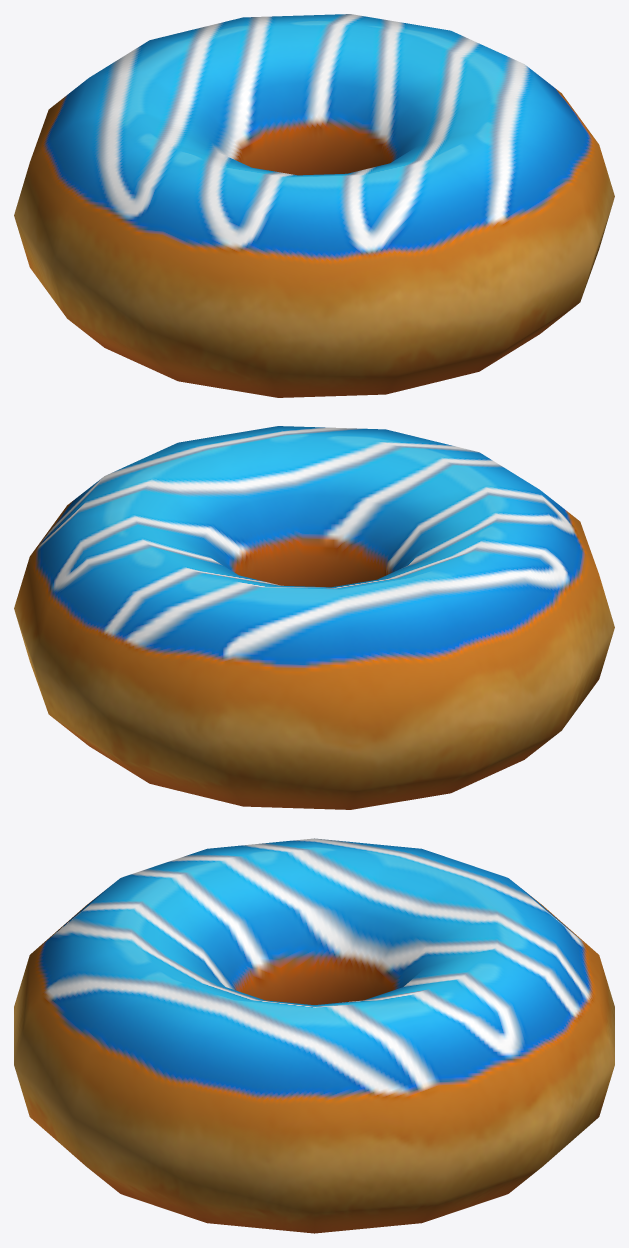
The model's file is 007-Donut_08.FBX.
3 views of the same model, one above another, from view 1: azimuth 30°, elevation 25°; view 2: azimuth 150°, elevation 25°; view 3: azimuth 270°, elevation 25° (orthographic). The views are drawn at different scales.
Visible parts, largest first — view 1: 007-Donut_08; view 2: 007-Donut_08; view 3: 007-Donut_08.
Boxes of the visible parts, left/top/right/bottom form: 007-Donut_08: left=14, top=14, right=614, bottom=397; 007-Donut_08: left=14, top=426, right=614, bottom=809; 007-Donut_08: left=14, top=838, right=614, bottom=1233.
Size of the model in its own units: 15.8 by 6.06 by 15.4.
